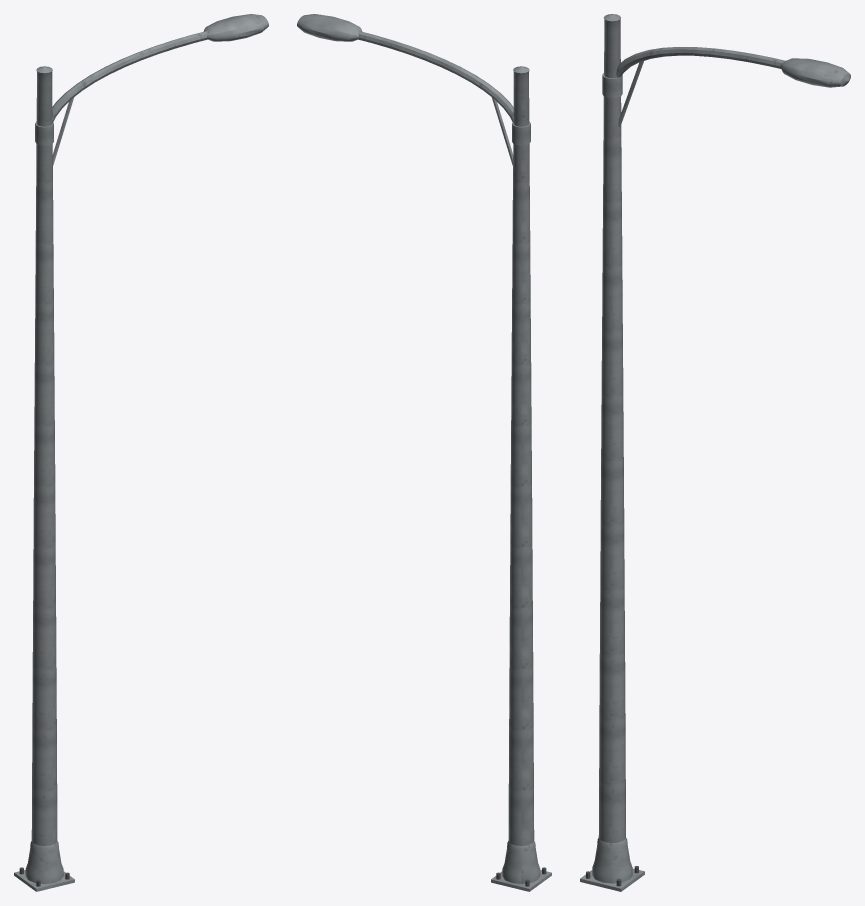
Rendered from street-light.glb.
3 views of the same model, side by side, from view 1: azimuth 30°, elevation 25°; view 2: azimuth 150°, elevation 25°; view 3: azimuth 330°, elevation 25° (orthographic). The views are drawn at different scales.
Parts seen in each view (by area): view 1: street_light.001; view 2: street_light.001; view 3: street_light.001.
Part boxes in pixels (x1=…): street_light.001: x1=14, y1=14, x2=268, y2=891; street_light.001: x1=297, y1=14, x2=551, y2=891; street_light.001: x1=580, y1=14, x2=850, y2=891.
Size of the model in its own units: 2.5 by 8.04 by 0.4003.
3 materials, 1 textured.
